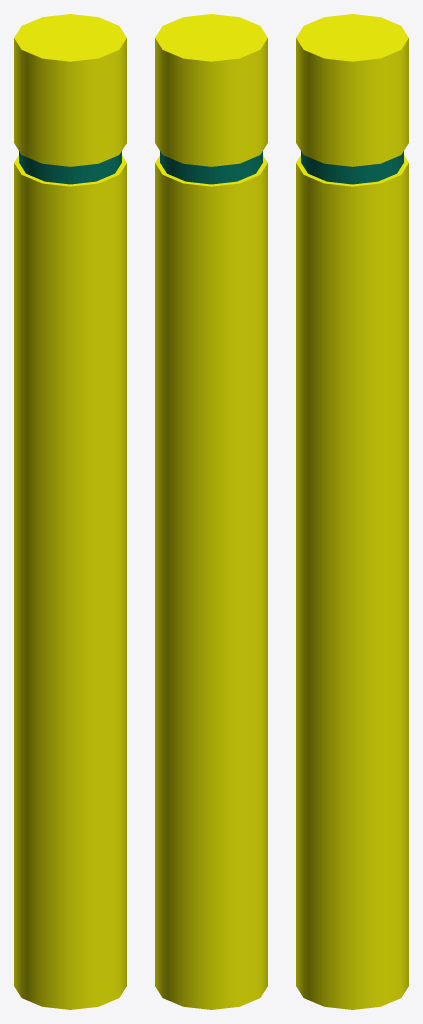
The model's file is SM_poteau_01.fbx.
3 renders of one model, left to right at view 1: azimuth 90°, elevation 25°; view 2: azimuth 210°, elevation 25°; view 3: azimuth 270°, elevation 25°, orthographic.
Parts seen in each view (by area): view 1: SM_poteau_01; view 2: SM_poteau_01; view 3: SM_poteau_01.
Boxes of the visible parts, x1,y1,x2,y2 form: SM_poteau_01: (14,14,126,1009); SM_poteau_01: (155,14,267,1009); SM_poteau_01: (296,14,408,1009).
Size of the model in its own units: 0.0698 by 0.6465 by 0.0697.
